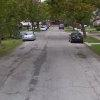Tree: (41, 0, 100, 29)
